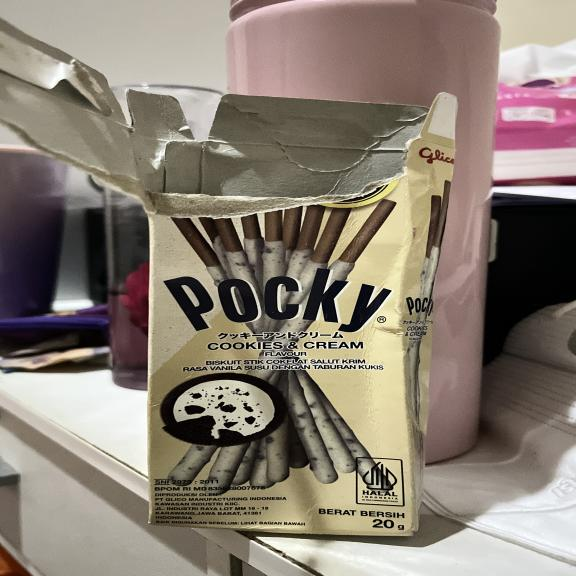Kertas: (142, 139, 462, 540)
